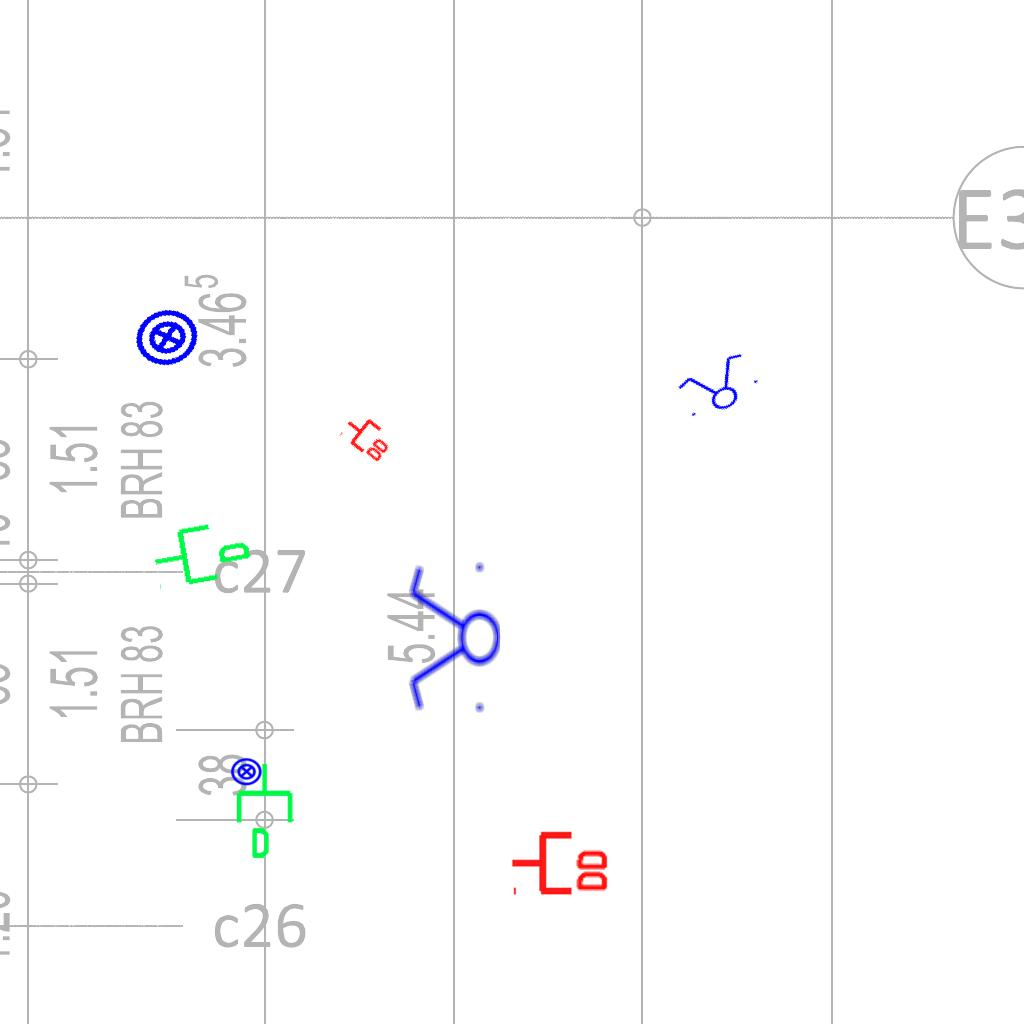Datenanschluss_einfach: (146, 509, 257, 595), (232, 761, 301, 861)
Datenanschluss_zweifach: (509, 827, 612, 896), (337, 407, 399, 466)
Serienschalter: (406, 555, 502, 723), (669, 346, 767, 428)
Taster_beleuchtet: (126, 296, 208, 378), (230, 755, 263, 788)
